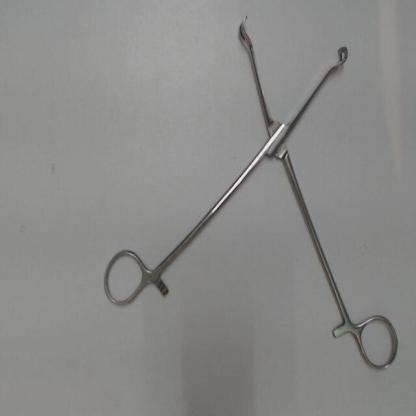8 Babcock Tissue Forceps: (98, 10, 402, 378)
